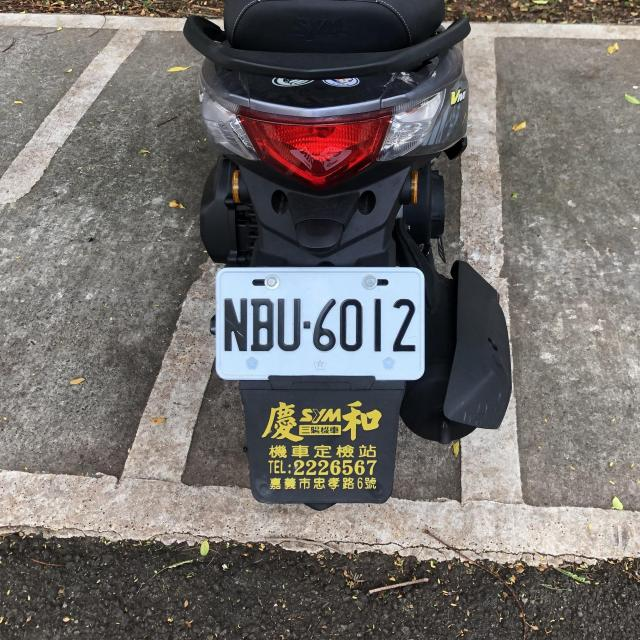W: (212, 263, 426, 385)
